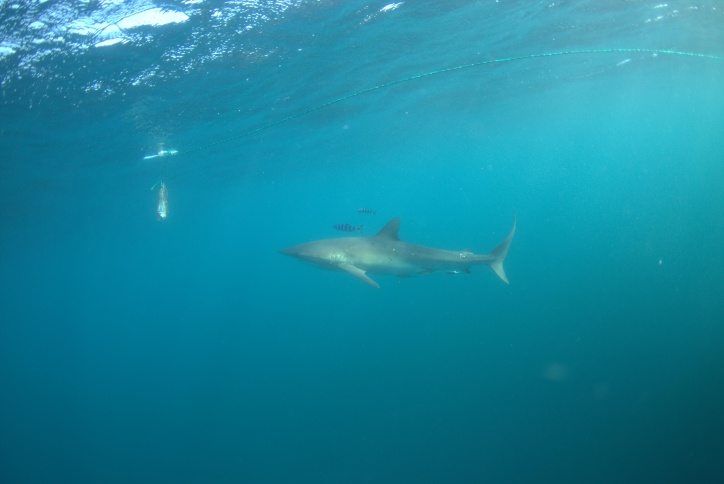Sedoso: (262, 206, 526, 293)
